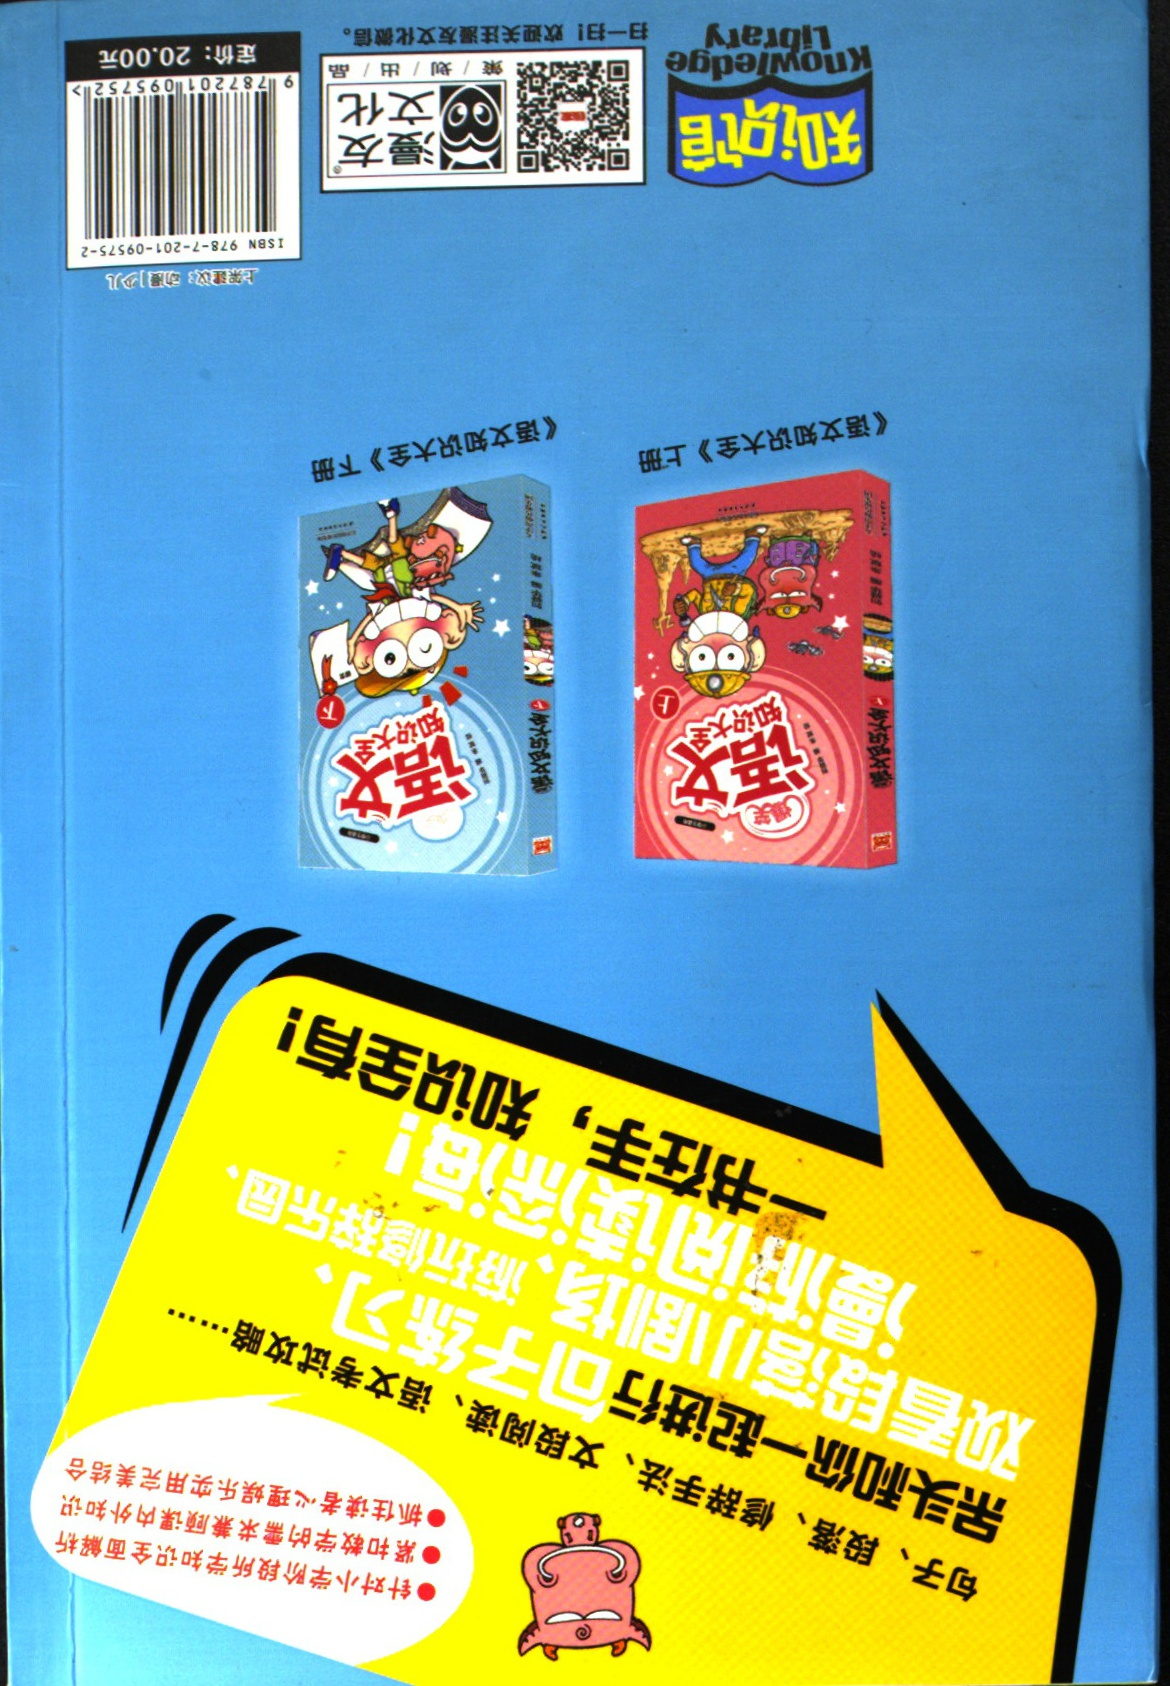barcode: (54, 29, 311, 258)
